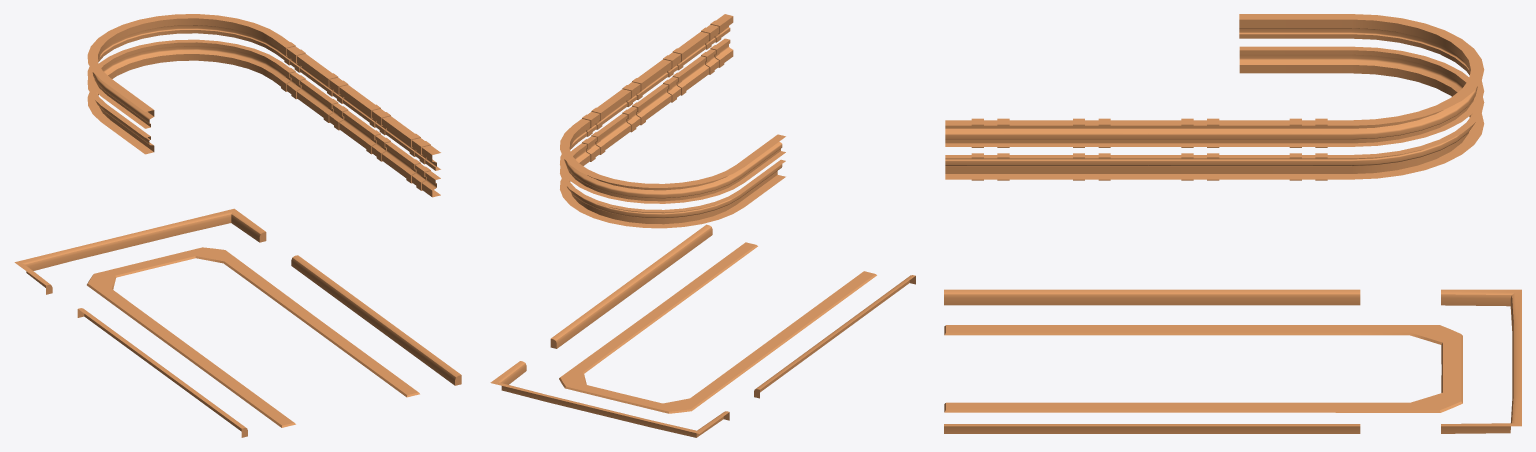
The model's file is horizontal_support.fbx.
3 renders of one model, left to right at view 1: azimuth 30°, elevation 25°; view 2: azimuth 150°, elevation 25°; view 3: azimuth 270°, elevation 25°, orthographic. The views are drawn at different scales.
Parts seen in each view (by area): view 1: roof_Girders_01, floor_cornerPiece_01, floorPanel_01, roofGirder_support_01; view 2: roof_Girders_01, floorPanel_01, floor_cornerPiece_01, roofGirder_support_01; view 3: roof_Girders_01, floor_cornerPiece_01, floorPanel_01, roofGirder_support_01.
Part boxes in pixels (bbox=[...]): roof_Girders_01: bbox=[87, 14, 440, 197]; floor_cornerPiece_01: bbox=[14, 208, 461, 437]; floorPanel_01: bbox=[87, 247, 419, 427]; roofGirder_support_01: bbox=[281, 42, 430, 190]; roof_Girders_01: bbox=[560, 14, 785, 228]; floorPanel_01: bbox=[559, 242, 876, 413]; floor_cornerPiece_01: bbox=[490, 224, 915, 437]; roofGirder_support_01: bbox=[582, 20, 724, 161]; roof_Girders_01: bbox=[945, 14, 1484, 179]; floor_cornerPiece_01: bbox=[944, 289, 1521, 433]; floorPanel_01: bbox=[944, 325, 1462, 412]; roofGirder_support_01: bbox=[971, 118, 1327, 180].
Size of the model in its own units: 24.36 by 25.03 by 43.56.
